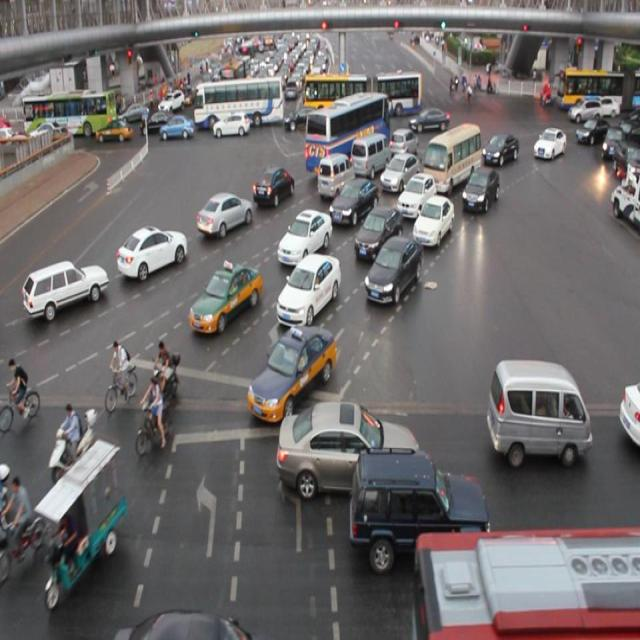car: (350, 445, 487, 567), (280, 401, 418, 504), (249, 327, 338, 417), (182, 263, 256, 343), (24, 256, 110, 320), (274, 251, 340, 332), (360, 232, 422, 310), (117, 223, 188, 280), (274, 212, 330, 270), (345, 209, 397, 270), (197, 190, 253, 238), (412, 192, 455, 250), (327, 178, 378, 224), (392, 173, 434, 220), (254, 165, 297, 206), (461, 166, 498, 212), (380, 149, 421, 188), (482, 130, 517, 167), (530, 124, 564, 160), (390, 126, 418, 161)
truck: (486, 354, 591, 464), (422, 125, 479, 189), (351, 132, 393, 177), (316, 153, 354, 200)
van: (412, 526, 640, 640), (306, 91, 392, 177)
